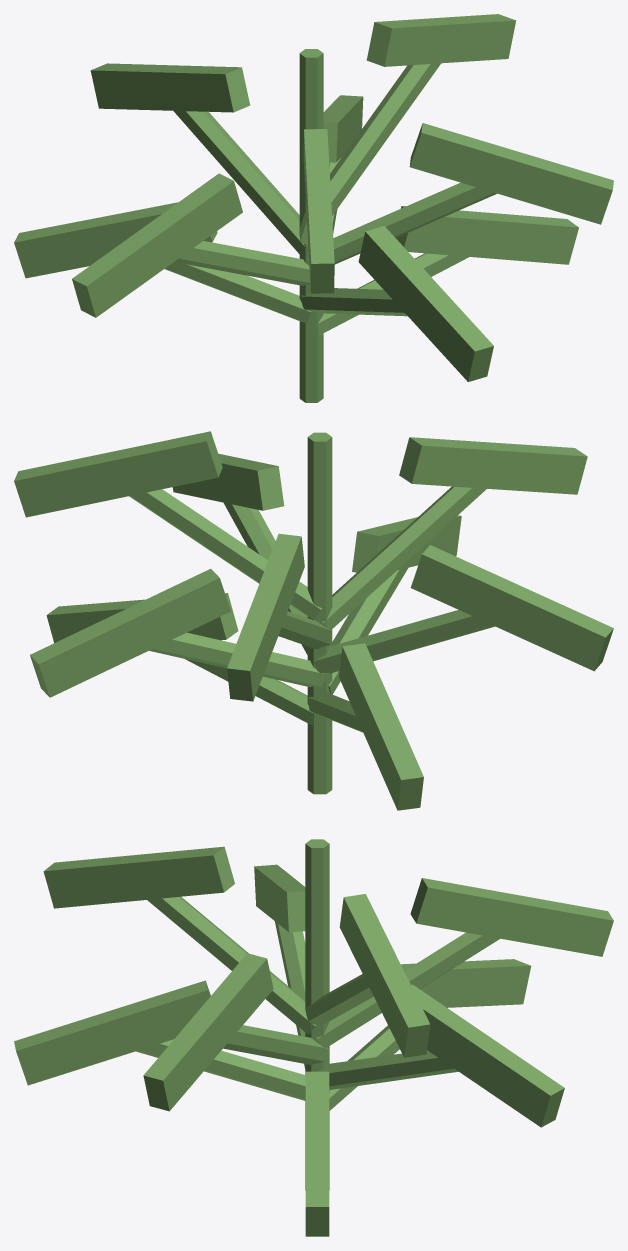
File: campaign_herb_3.glb
The picture shows the model from 3 angles, top to bottom: view 1: azimuth 30°, elevation 25°; view 2: azimuth 150°, elevation 25°; view 3: azimuth 270°, elevation 25°; orthographic projection. The views are drawn at different scales.
Parts seen in each view (by area): view 1: campaign_herb_3; view 2: campaign_herb_3; view 3: campaign_herb_3.
Boxes of the visible parts, left/top/right/bottom form: campaign_herb_3: left=14, top=14, right=613, bottom=402; campaign_herb_3: left=14, top=431, right=613, bottom=810; campaign_herb_3: left=14, top=839, right=613, bottom=1236.
Bounding box in the file's own units: 0.9007 × 0.57 × 0.8938.
